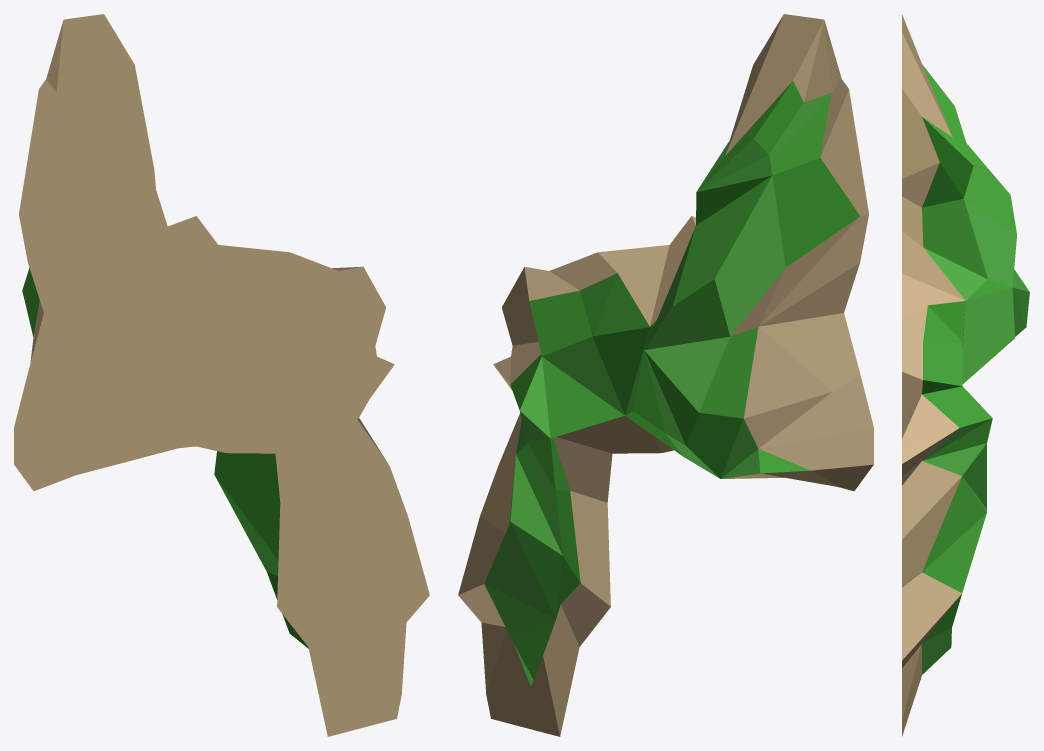
Rendered from desert_middle_mountain_1.fbx.
3 renders of one model, left to right at view 1: azimuth 30°, elevation 25°; view 2: azimuth 150°, elevation 25°; view 3: azimuth 270°, elevation 25°, orthographic. The views are drawn at different scales.
Visible parts, largest first — view 1: desert_middle_mountain_1; view 2: desert_middle_mountain_1; view 3: desert_middle_mountain_1.
Part boxes in pixels (box(x1,y1,x2,y2)): desert_middle_mountain_1: box(14, 14, 429, 736); desert_middle_mountain_1: box(458, 14, 873, 736); desert_middle_mountain_1: box(902, 14, 1029, 736).
Bounding box in the file's own units: 586 × 1054 × 204.
